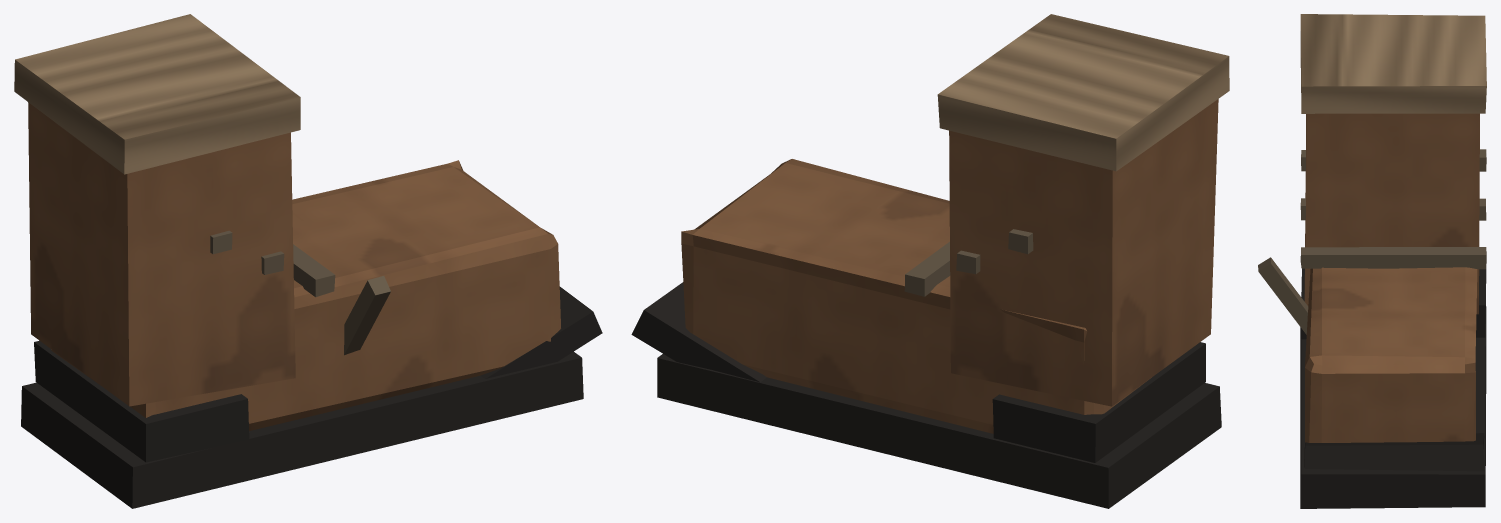
File: old_boot.glb
3 views of the same model, side by side, from view 1: azimuth 30°, elevation 25°; view 2: azimuth 150°, elevation 25°; view 3: azimuth 270°, elevation 25° (orthographic). The views are drawn at different scales.
Visible parts, largest first — view 1: OldBoot; view 2: OldBoot; view 3: OldBoot.
Part boxes in pixels (bbox=[...]): OldBoot: bbox=[14, 14, 602, 508]; OldBoot: bbox=[631, 14, 1229, 508]; OldBoot: bbox=[1258, 14, 1486, 508].
Bounding box in the file's own units: 0.4218 × 0.3095 × 0.2078.
4 materials, 2 textured.
